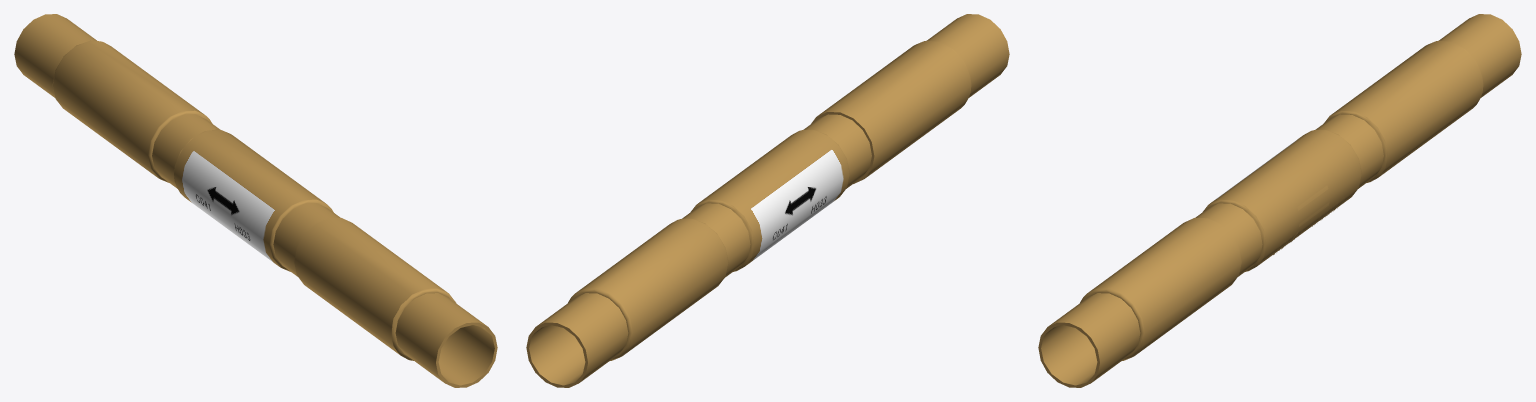
Rendered from Restrictor _C041.fbx.
3 views of the same model, side by side, from view 1: azimuth 30°, elevation 25°; view 2: azimuth 150°, elevation 25°; view 3: azimuth 330°, elevation 25° (orthographic).
Visible parts, largest first — view 1: Restrictor; view 2: Restrictor; view 3: Restrictor.
Boxes of the visible parts, x1=… form: Restrictor: x1=14, y1=14, x2=497, y2=387; Restrictor: x1=526, y1=14, x2=1009, y2=387; Restrictor: x1=1038, y1=14, x2=1521, y2=387.
Bounding box in the file's own units: 1.28 × 1.27 × 13.6.
Materials: 1 (1 with a texture image).
